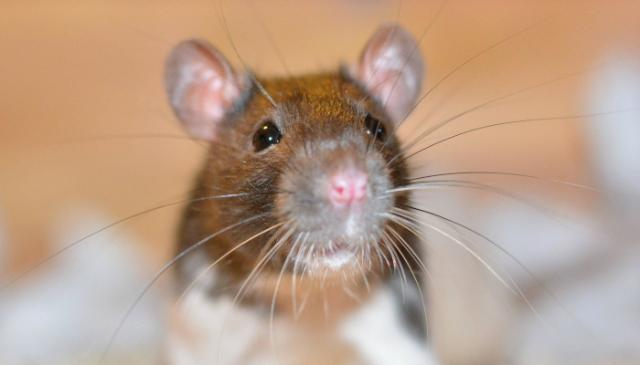rat: (158, 11, 434, 329)
